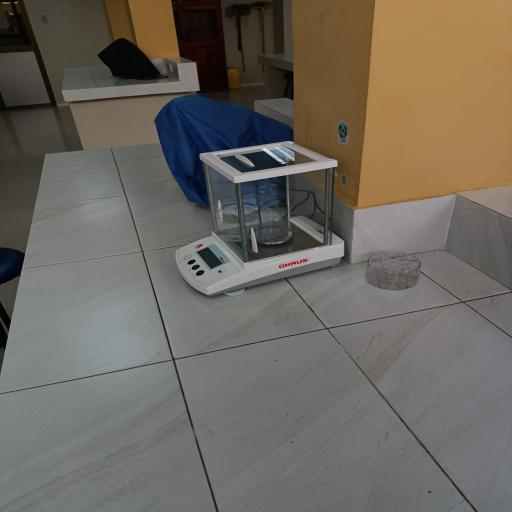Balanza_Analitica_Ohaus: (170, 136, 351, 303)
